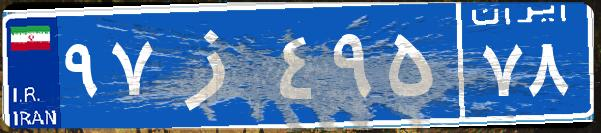4: (273, 28, 330, 110)
5: (385, 28, 445, 110)
7: (475, 38, 525, 113), (110, 28, 158, 105)
8: (525, 38, 570, 115)
9: (330, 28, 385, 110), (57, 26, 110, 107)
ز: (158, 15, 273, 115)
